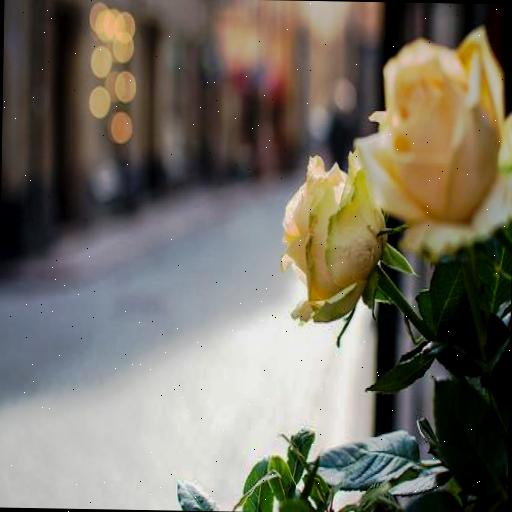rose: (353, 22, 512, 235), (279, 154, 390, 322)
